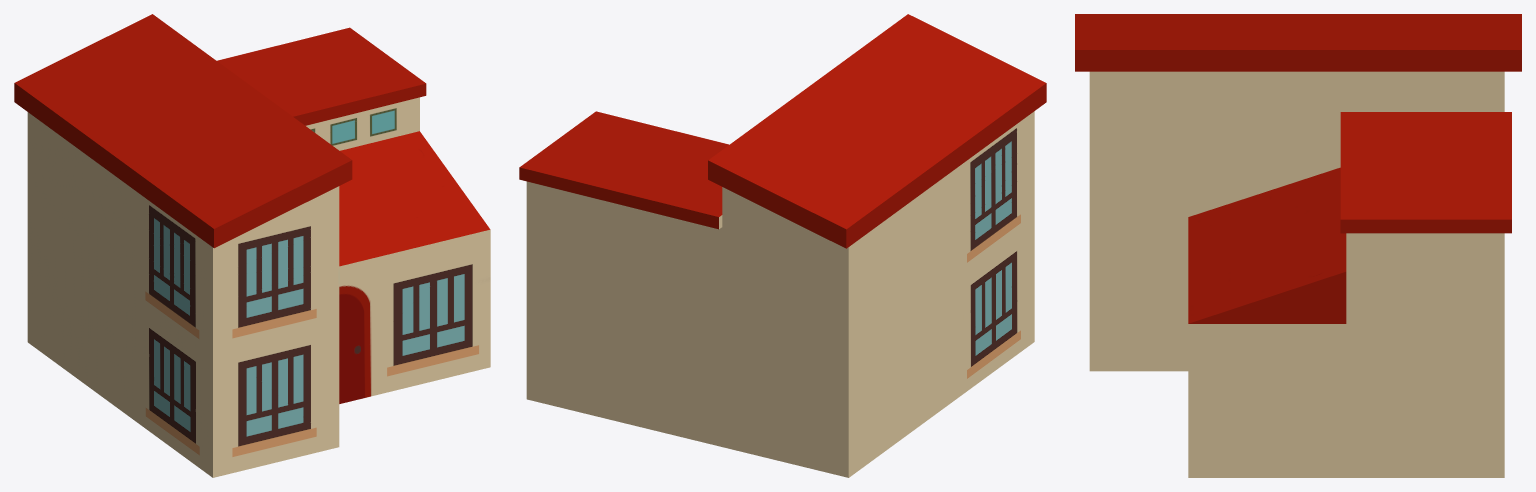
Rendered from Building #23.fbx.
3 renders of one model, left to right at view 1: azimuth 30°, elevation 25°; view 2: azimuth 150°, elevation 25°; view 3: azimuth 270°, elevation 25°, orthographic. The views are drawn at different scales.
Parts seen in each view (by area): view 1: BuildingE; view 2: BuildingE; view 3: BuildingE.
Part boxes in pixels (x1,y1,x2,y2): BuildingE: (14, 14, 490, 477); BuildingE: (519, 14, 1046, 477); BuildingE: (1075, 14, 1521, 477).
Bounding box in the file's own units: 2976 × 2494 × 3110.
1 material, 1 textured.
